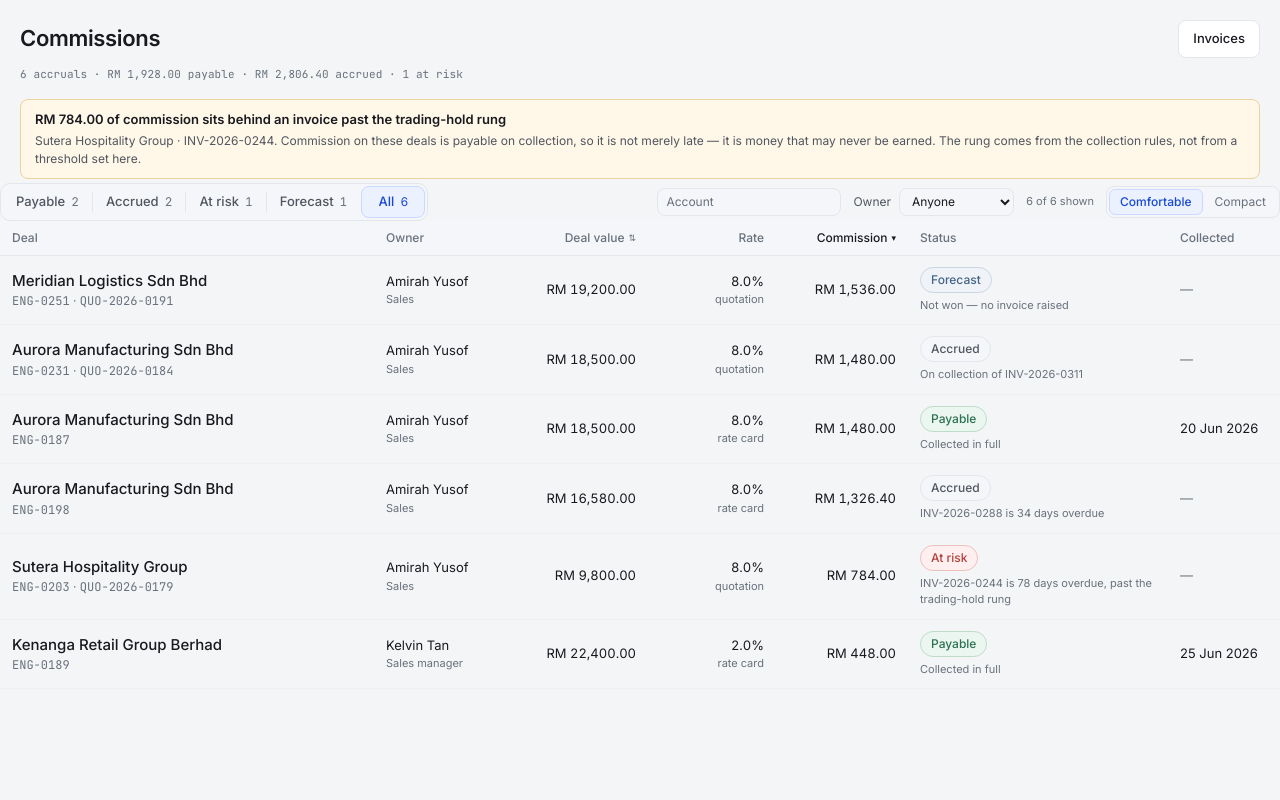
Finance › Commissions › opens the derivation rather than printing it on the page
Click the text "Aurora Manufacturing Sdn Bhd" at coordinates (640, 359), box [0,324,1279,394]
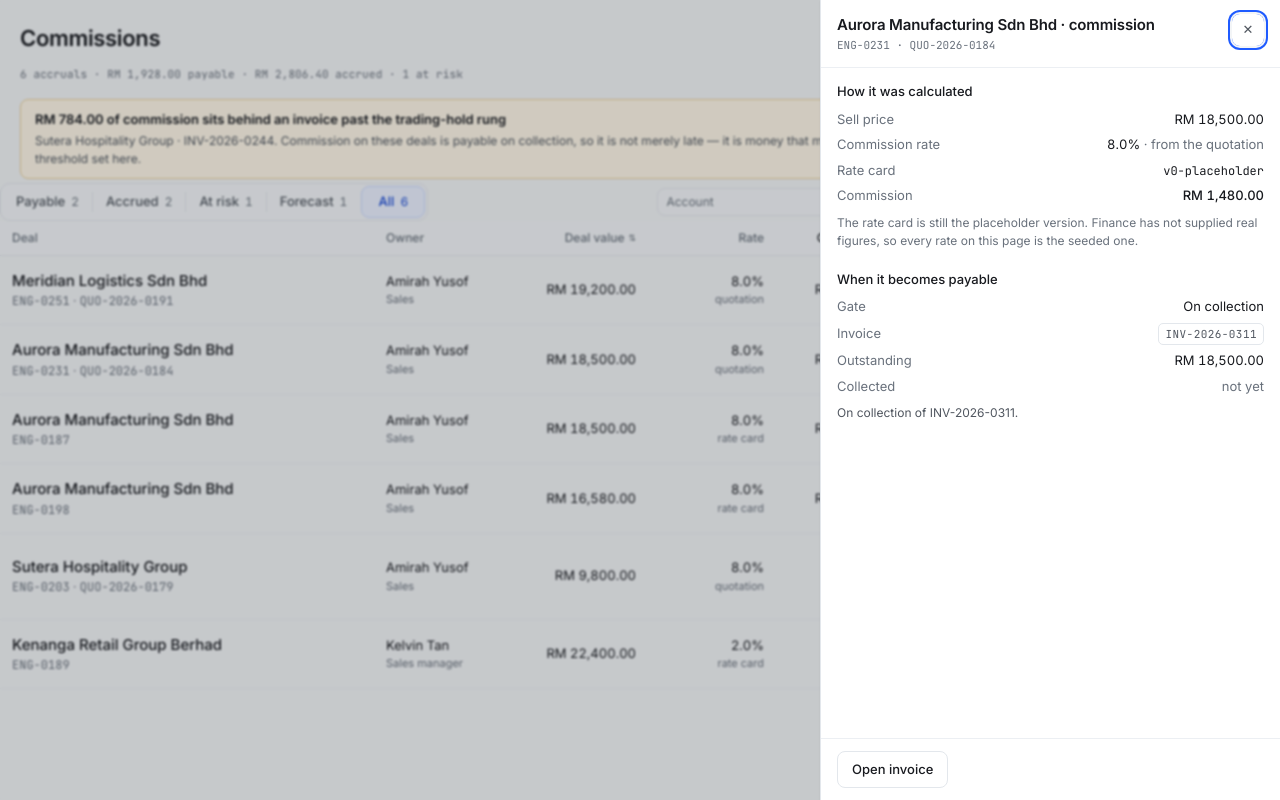
Expected: the heading "How it was calculated" is shown, [837,83,973,99]
Expected: the text "Sell price" is shown, [837,110,894,129]
Expected: the text "v0-placeholder" is shown, [1163,162,1264,178]
